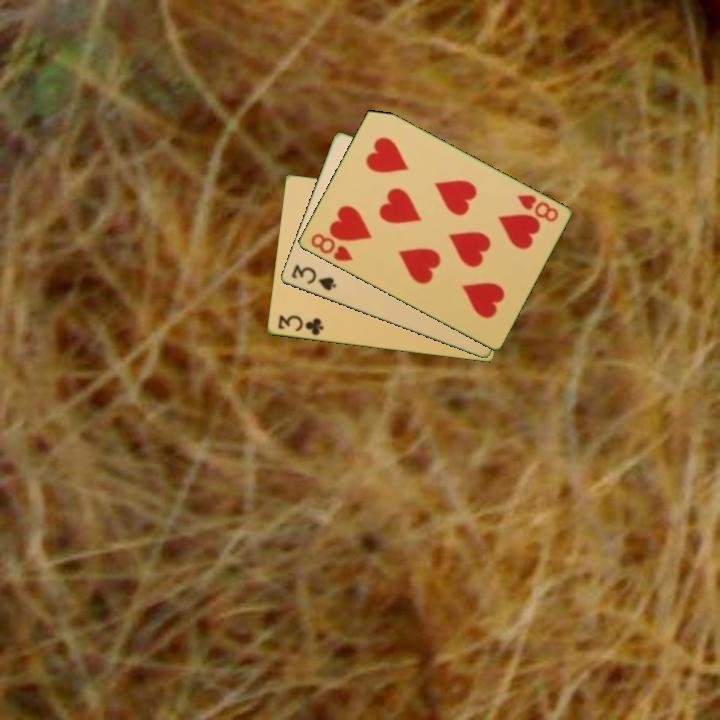3c: (274, 312, 326, 339)
3s: (287, 261, 339, 294)
8h: (307, 230, 356, 264), (513, 191, 561, 225)
